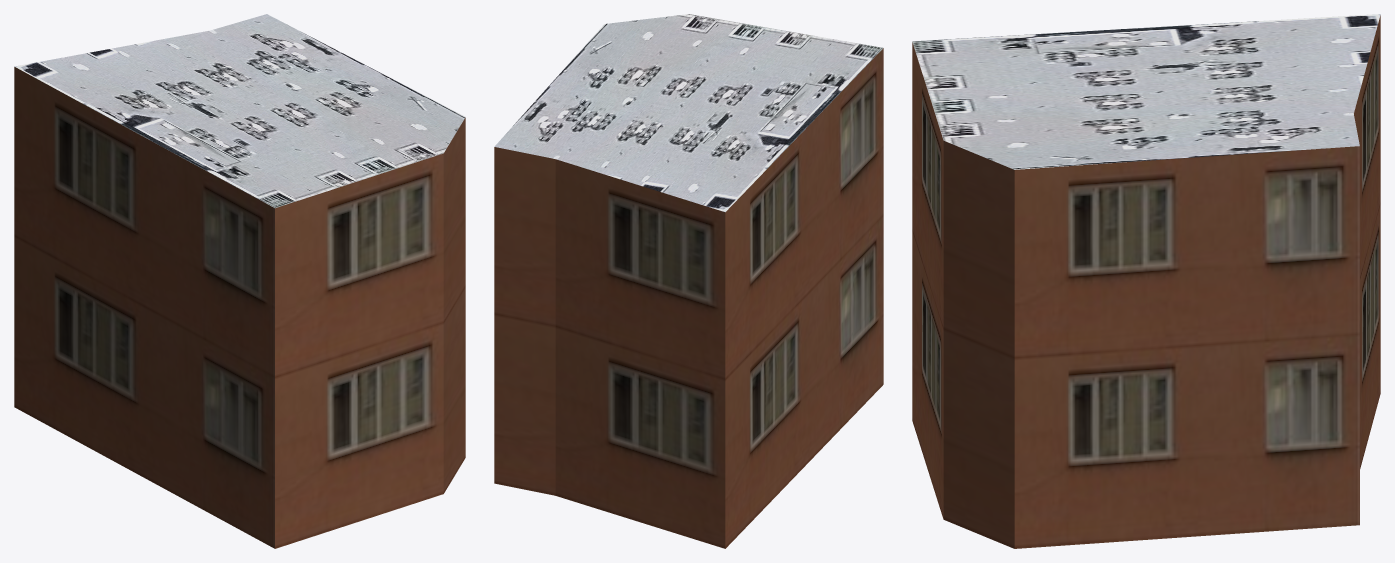
The model's file is ResTex__2636.fbx.
The picture shows the model from 3 angles, left to right: view 1: azimuth 30°, elevation 25°; view 2: azimuth 150°, elevation 25°; view 3: azimuth 270°, elevation 25°; orthographic projection. The views are drawn at different scales.
Parts seen in each view (by area): view 1: CityEngineMaterial_20_m, CityEngineMaterial_4_m; view 2: CityEngineMaterial_20_m, CityEngineMaterial_4_m; view 3: CityEngineMaterial_20_m, CityEngineMaterial_4_m.
Boxes of the visible parts, x1=… form: CityEngineMaterial_20_m: x1=14, y1=67, x2=465, y2=548; CityEngineMaterial_4_m: x1=14, y1=14, x2=465, y2=208; CityEngineMaterial_20_m: x1=494, y1=48, x2=883, y2=548; CityEngineMaterial_4_m: x1=494, y1=14, x2=882, y2=212; CityEngineMaterial_20_m: x1=912, y1=15, x2=1380, y2=548; CityEngineMaterial_4_m: x1=912, y1=14, x2=1380, y2=169.
Bounding box in the file's own units: 5.29 × 6 × 6.72.
2 materials, 2 textured.
